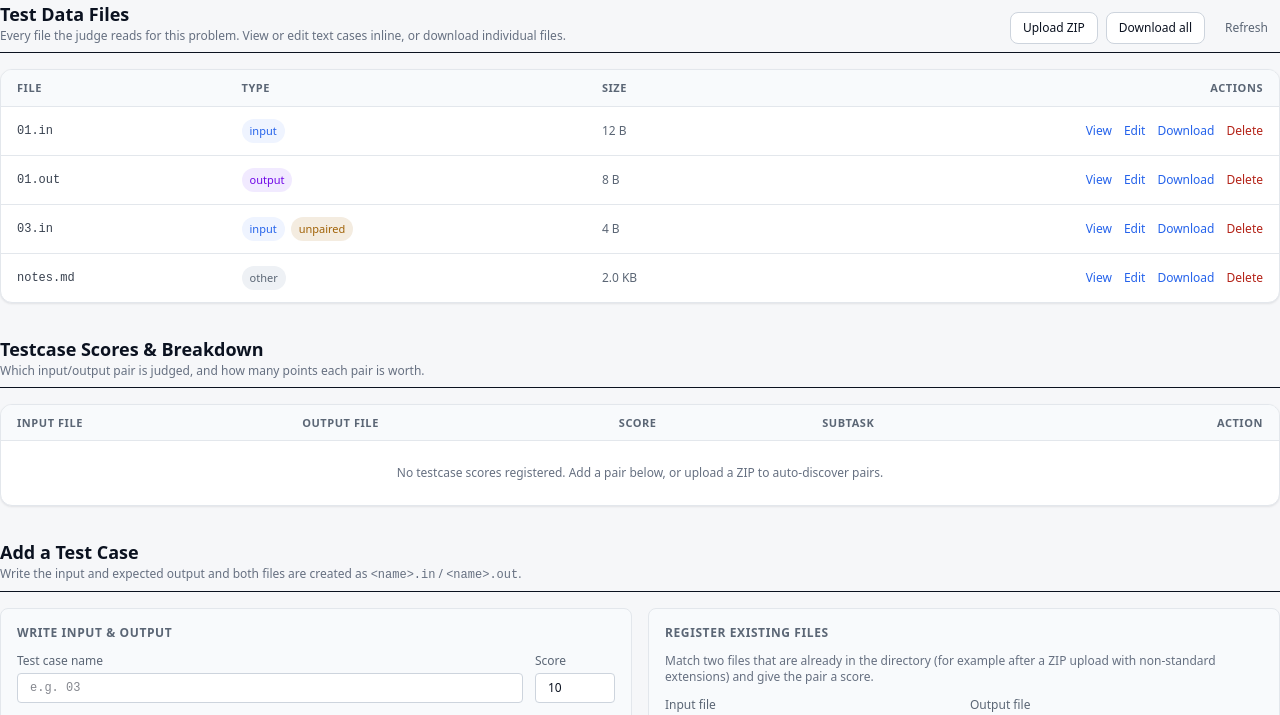
binary files explain why they cannot be edited
Click the button "View" in the row of "01.out" at (1099, 180), box x1=1086 y1=172 x2=1112 y2=188
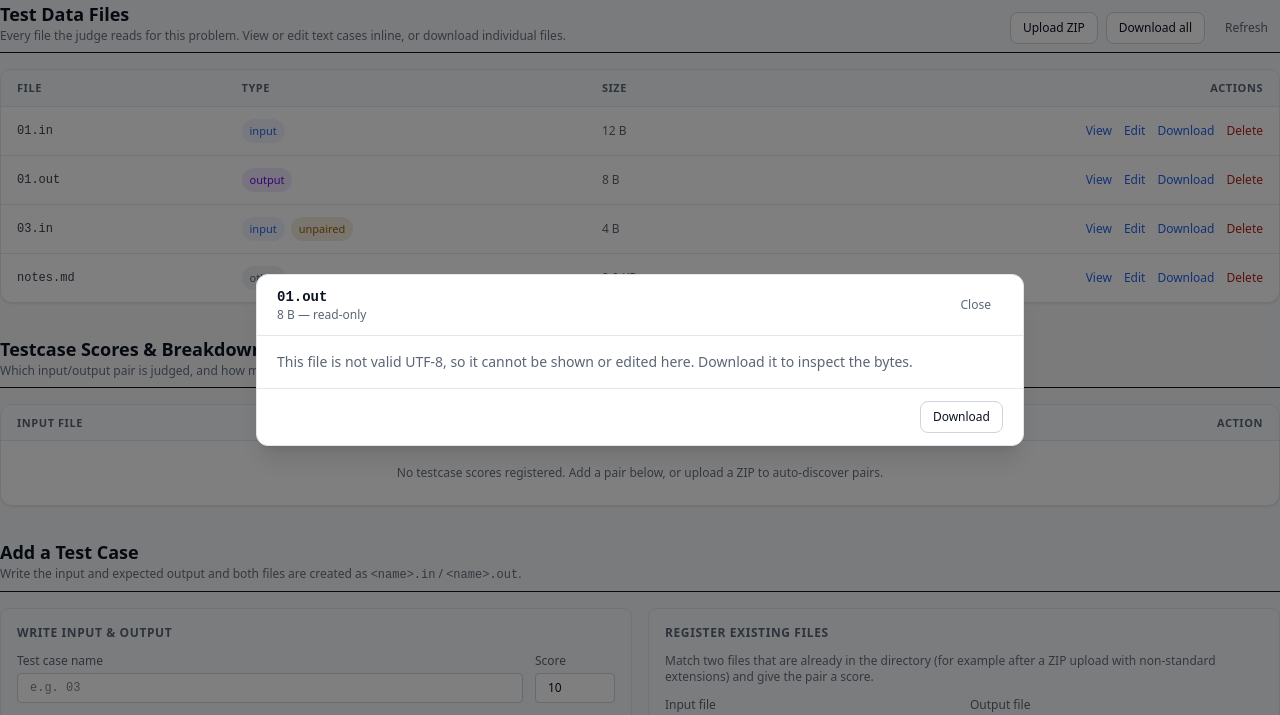
Check: the text "not valid UTF-8" is shown, box x1=277 y1=352 x2=913 y2=371
